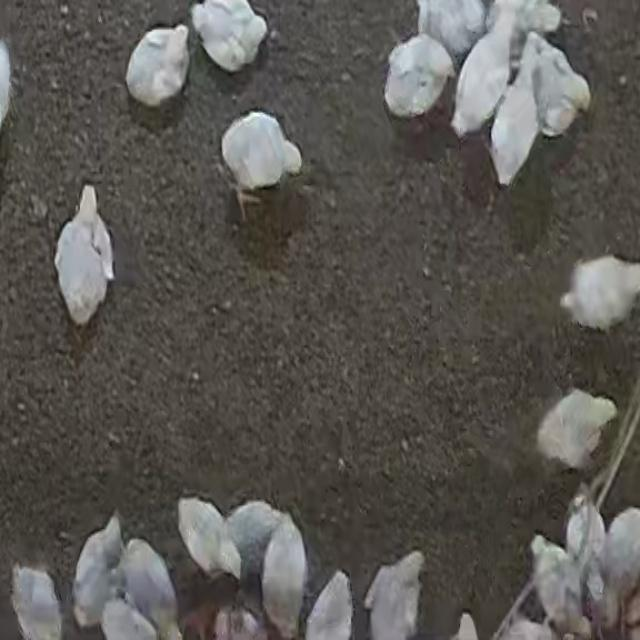chicken: (54, 186, 115, 329), (536, 388, 615, 472), (456, 17, 514, 131), (527, 34, 589, 138), (221, 115, 301, 195), (560, 254, 640, 333), (122, 539, 184, 640), (490, 55, 537, 184), (530, 535, 590, 636), (122, 24, 191, 110), (384, 34, 454, 118), (191, 0, 267, 72), (73, 517, 123, 626), (176, 497, 242, 579), (365, 554, 423, 640), (417, 0, 489, 59), (605, 506, 640, 622), (568, 494, 606, 600), (267, 518, 300, 634), (10, 564, 60, 640), (304, 568, 353, 640), (483, 0, 567, 37), (100, 599, 156, 640), (227, 502, 282, 542)
